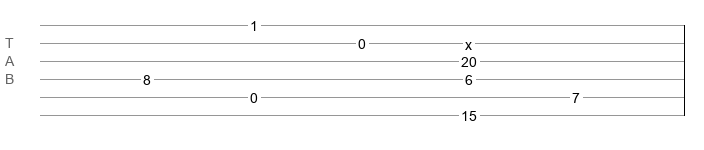0: (250, 90, 258, 100), (358, 36, 366, 46)
1: (250, 18, 258, 28)
15: (461, 108, 477, 118)
20: (461, 54, 477, 64)
6: (465, 72, 473, 82)
7: (572, 90, 580, 100)
8: (143, 72, 151, 82)
x: (465, 37, 472, 45)
